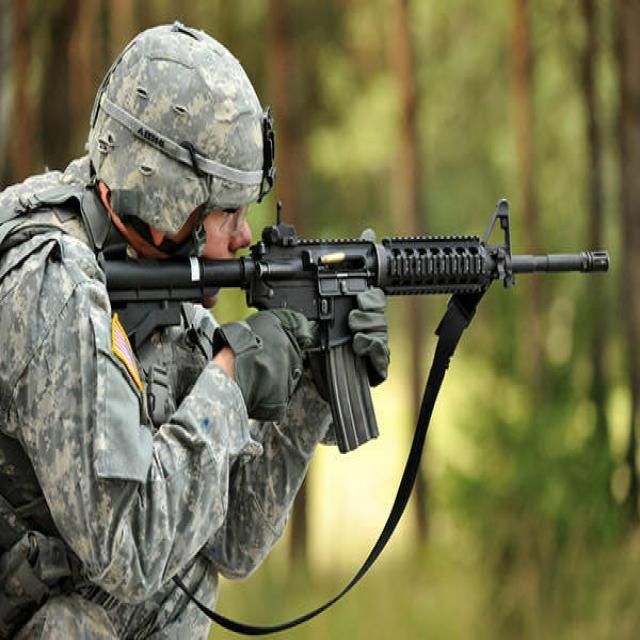m16: (53, 164, 618, 474)
